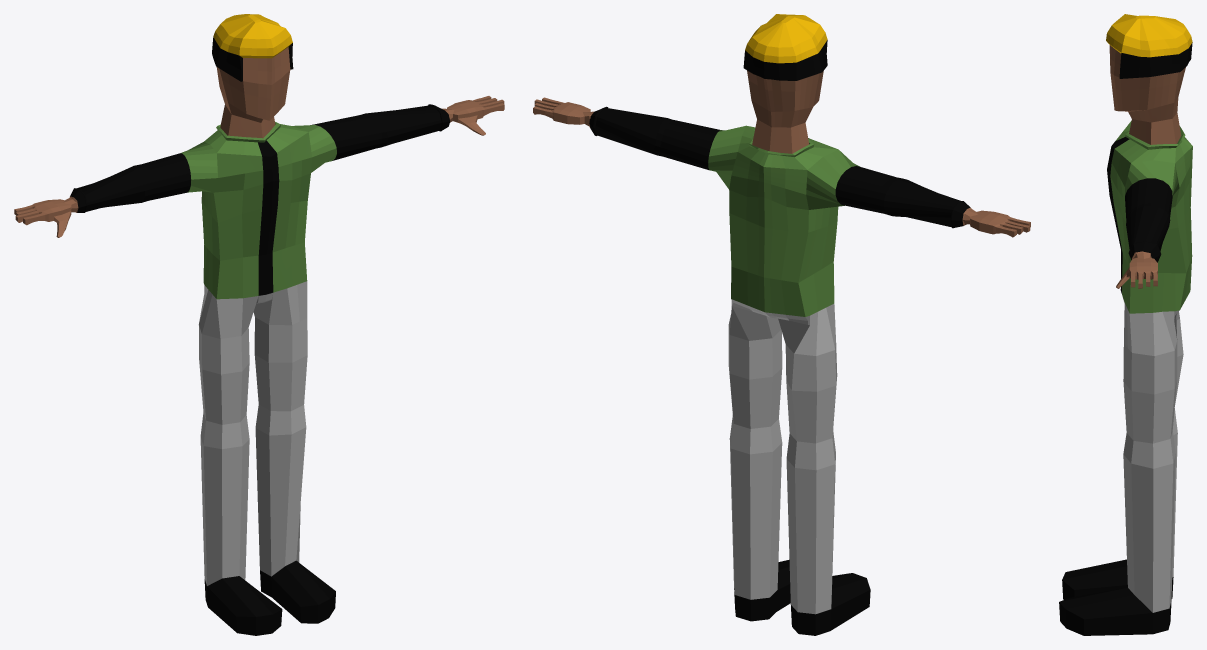
The model's file is npc3BD.fbx.
3 views of the same model, side by side, from view 1: azimuth 30°, elevation 25°; view 2: azimuth 150°, elevation 25°; view 3: azimuth 270°, elevation 25° (orthographic). The views are drawn at different scales.
Visible parts, largest first — view 1: Cube.003; view 2: Cube.003; view 3: Cube.003.
Part boxes in pixels (bbox=[...]): Cube.003: bbox=[14, 14, 504, 635]; Cube.003: bbox=[533, 14, 1030, 635]; Cube.003: bbox=[1059, 14, 1192, 635].
Bounding box in the file's own units: 230 × 265 × 54.11.
